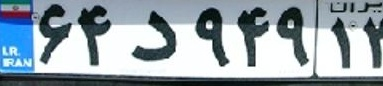character: (126, 6, 184, 69), (74, 1, 118, 69), (192, 2, 233, 71), (273, 1, 311, 73), (34, 1, 74, 69), (234, 2, 272, 70), (324, 14, 356, 71), (362, 13, 383, 73)
